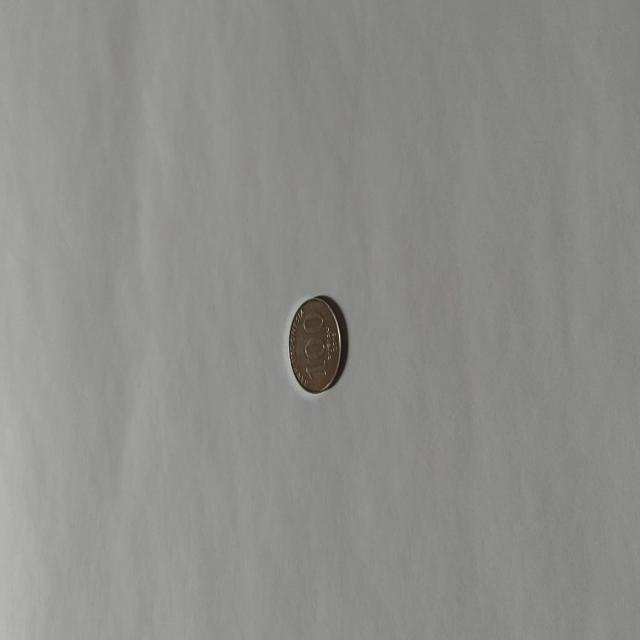seratus rupiah: (288, 295, 342, 394)
